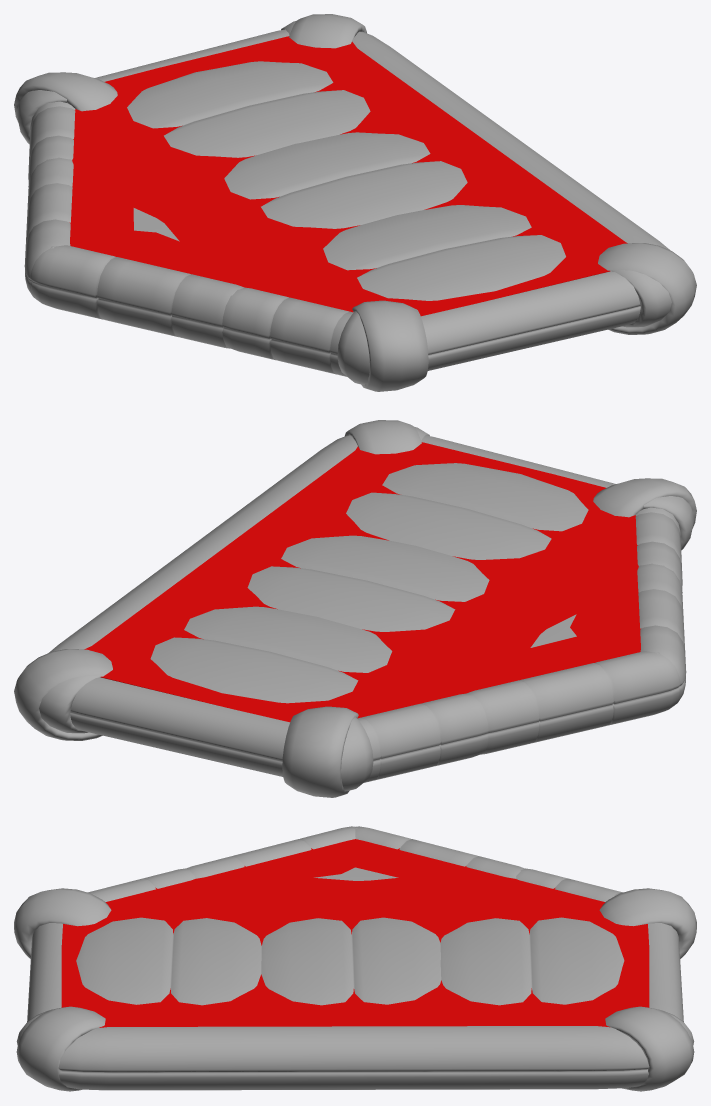
Rendered from pentaInflatable.fbx.
3 renders of one model, top to bottom at view 1: azimuth 30°, elevation 25°; view 2: azimuth 150°, elevation 25°; view 3: azimuth 270°, elevation 25°, orthographic. The views are drawn at different scales.
Parts seen in each view (by area): view 1: Colision, cilindreInlatable3, floor3, floor2, floor1, cilindreInlatable4, cilindreInlatable5, tie2, cilindreInlatable2, tie3, tie1, tie4 (+2 smaller); view 2: Colision, cilindreInlatable2, floor1, floor3, floor2, cilindreInlatable1, cilindreInlatable5, tie1, cilindreInlatable3, tie4, tie2, tie3 (+2 smaller); view 3: Colision, cilindreInlatable5, floor3, floor1, floor2, tie4, tie3, cilindreInlatable2, cilindreInlatable3, tie2, tie1, cilindreInlatable1 (+2 smaller).
Part boxes in pixels (x1,y1,x2,y2): Colision: (69,36,627,316); cilindreInlatable3: (30,245,353,376); floor3: (323,205,565,300); floor2: (224,132,467,228); floor1: (127,61,370,157); cilindreInlatable4: (421,271,640,370); cilindreInlatable5: (352,31,670,250); tie2: (337,300,428,391); cilindreInlatable2: (24,101,75,298); tie3: (598,243,696,334); tie1: (14,72,117,144); tie4: (281,14,366,48); Colision: (84,442,641,722); cilindreInlatable2: (357,651,680,782); floor1: (150,606,392,703); floor3: (346,463,588,559); floor2: (247,535,489,631); cilindreInlatable1: (70,677,289,776); cilindreInlatable5: (49,435,357,652); tie1: (282,706,373,797); cilindreInlatable3: (635,507,686,704); tie4: (14,649,112,740); tie2: (593,478,696,550); tie3: (345,420,429,454); Colision: (61,839,649,1027); cilindreInlatable5: (58,1026,649,1090); floor3: (76,917,261,1005); floor1: (440,917,624,1005); floor2: (261,917,441,1005); tie4: (605,1006,694,1091); tie3: (16,1006,105,1091); cilindreInlatable2: (353,826,623,901); cilindreInlatable3: (87,826,357,901); tie2: (14,888,111,958); tie1: (599,888,696,958); cilindreInlatable1: (648,923,683,1021).
Bounding box in the file's own units: 1086 × 170 × 1392.
